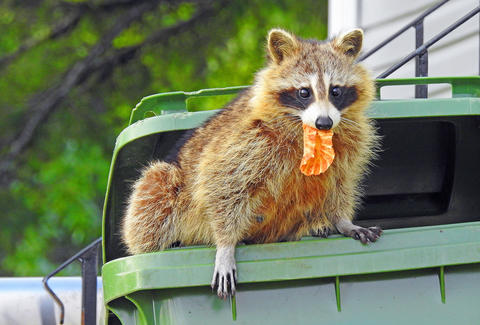raccoon: (100, 26, 401, 293)
